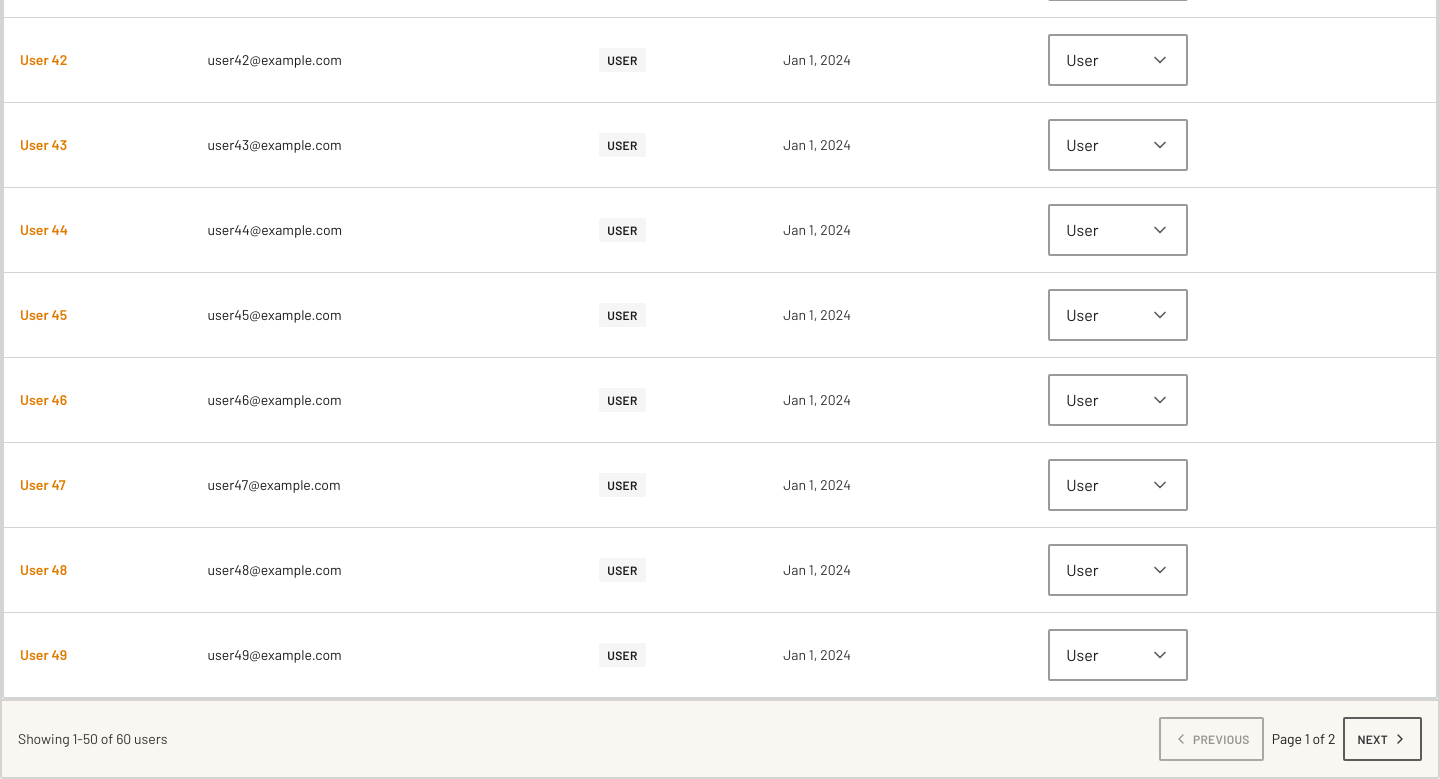
UsersTable › disables Next button on last page
(page scrolled)
Step 1. Click the button "Next" → (1383, 738), box [1343,716,1422,760]
(page scrolled)
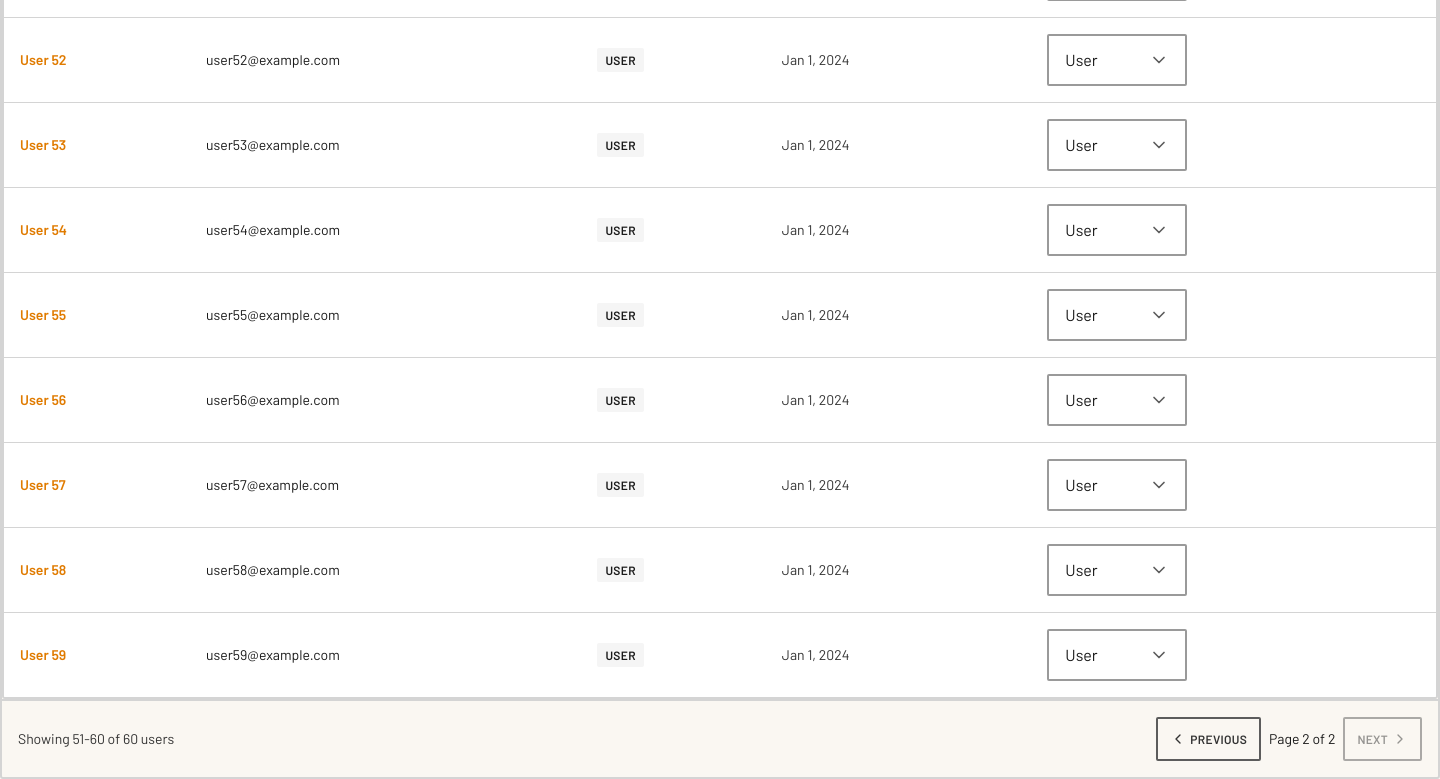
Result: the button "Next" is disabled at [1343,716,1422,760]
